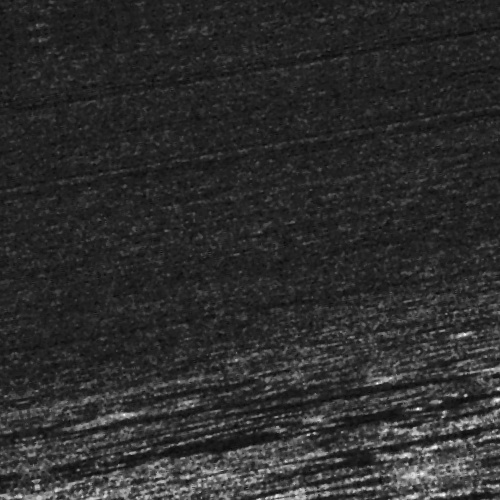object: (0, 385, 148, 396), (311, 392, 404, 401), (450, 399, 500, 414), (316, 492, 399, 500), (440, 432, 500, 437), (245, 427, 286, 434)
shadow: (181, 399, 477, 414), (55, 392, 357, 401), (299, 459, 500, 468), (29, 427, 265, 434), (170, 432, 472, 437), (202, 492, 357, 500), (0, 385, 69, 396), (479, 318, 500, 331)
